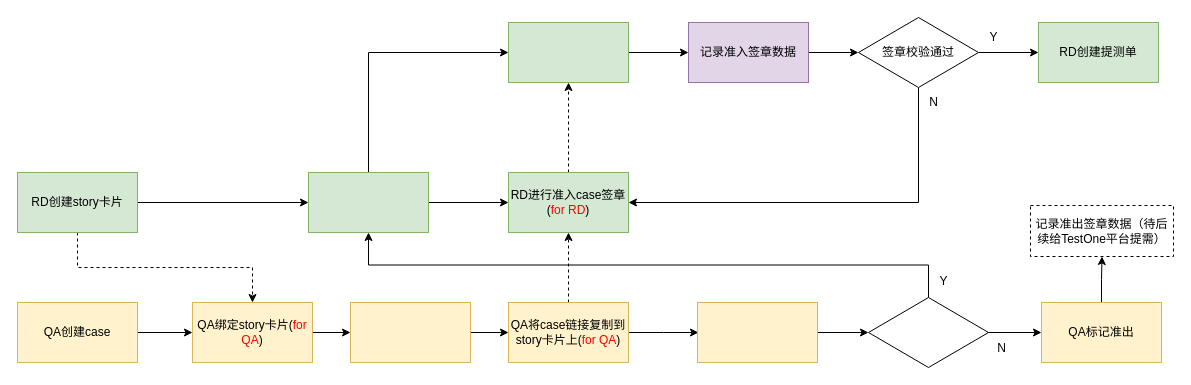
This 1191x385 diagram has some shape labels left out. The shapes that lost their labels are listed below. From the top down, each one's centre as x and y in pixels, then its label:
At point (568, 52): "RD提测（提测流水线）".
At point (368, 202): "RD自测".
At point (410, 332): "标记准入( for QA )".
At point (757, 332): "QA测试".
At point (928, 332): "测试打回".
